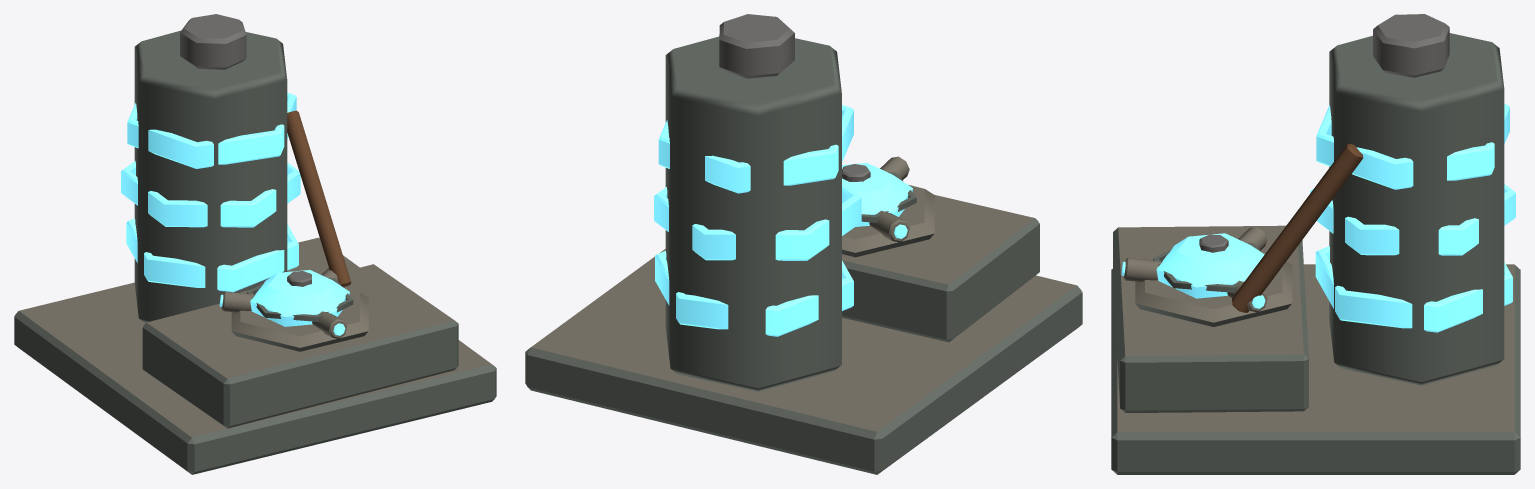
The model's file is R4X_SlowTrapDeployer_LOD1.fbx.
The picture shows the model from 3 angles, left to right: view 1: azimuth 30°, elevation 25°; view 2: azimuth 150°, elevation 25°; view 3: azimuth 270°, elevation 25°; orthographic projection. The views are drawn at different scales.
Visible parts, largest first — view 1: R4X_SlowTrapDeployer_LOD1; view 2: R4X_SlowTrapDeployer_LOD1; view 3: R4X_SlowTrapDeployer_LOD1.
Part boxes in pixels (x1,y1,x2,y2): R4X_SlowTrapDeployer_LOD1: [14, 14, 496, 474]; R4X_SlowTrapDeployer_LOD1: [525, 14, 1082, 474]; R4X_SlowTrapDeployer_LOD1: [1111, 14, 1520, 474].
Bounding box in the file's own units: 0.52 × 0.51 × 0.52.
